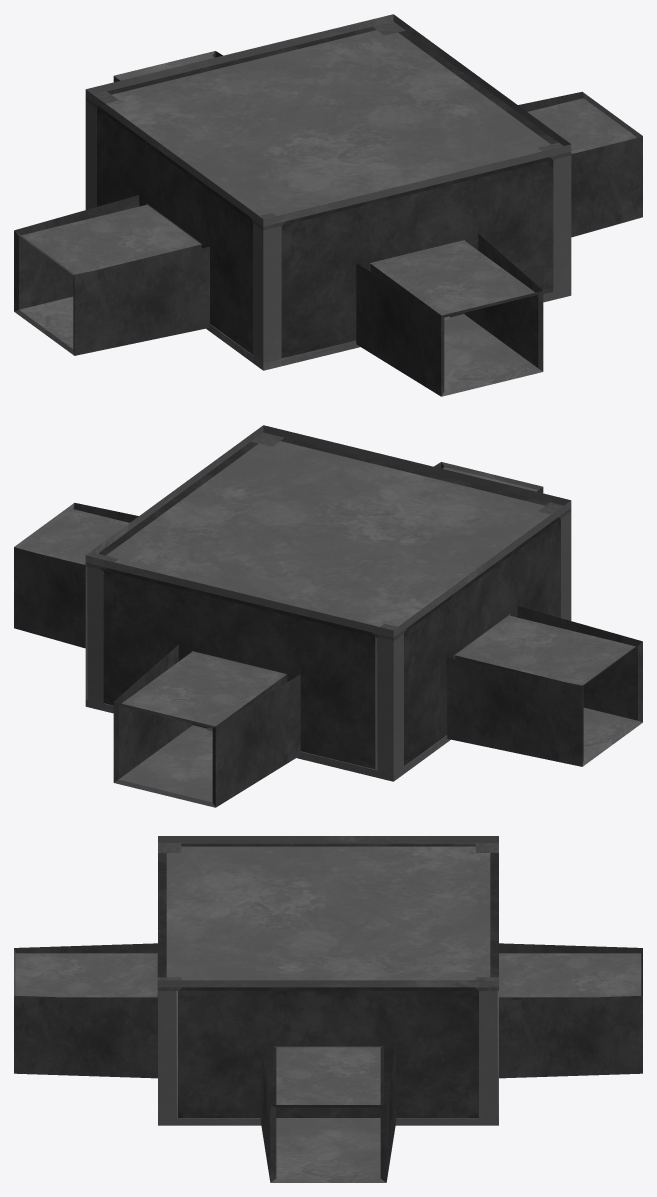
Rendered from Room_Exit_3.fbx.
The picture shows the model from 3 angles, top to bottom: view 1: azimuth 30°, elevation 25°; view 2: azimuth 150°, elevation 25°; view 3: azimuth 270°, elevation 25°; orthographic projection. The views are drawn at different scales.
Parts seen in each view (by area): view 1: Room_Exit_3_V5; view 2: Room_Exit_3_V5; view 3: Room_Exit_3_V5.
Boxes of the visible parts, left/top/right/bottom form: Room_Exit_3_V5: left=14, top=14, right=642, bottom=396; Room_Exit_3_V5: left=14, top=425, right=642, bottom=807; Room_Exit_3_V5: left=14, top=836, right=642, bottom=1182.
Size of the model in its own units: 80.56 by 20.5 by 80.43.
